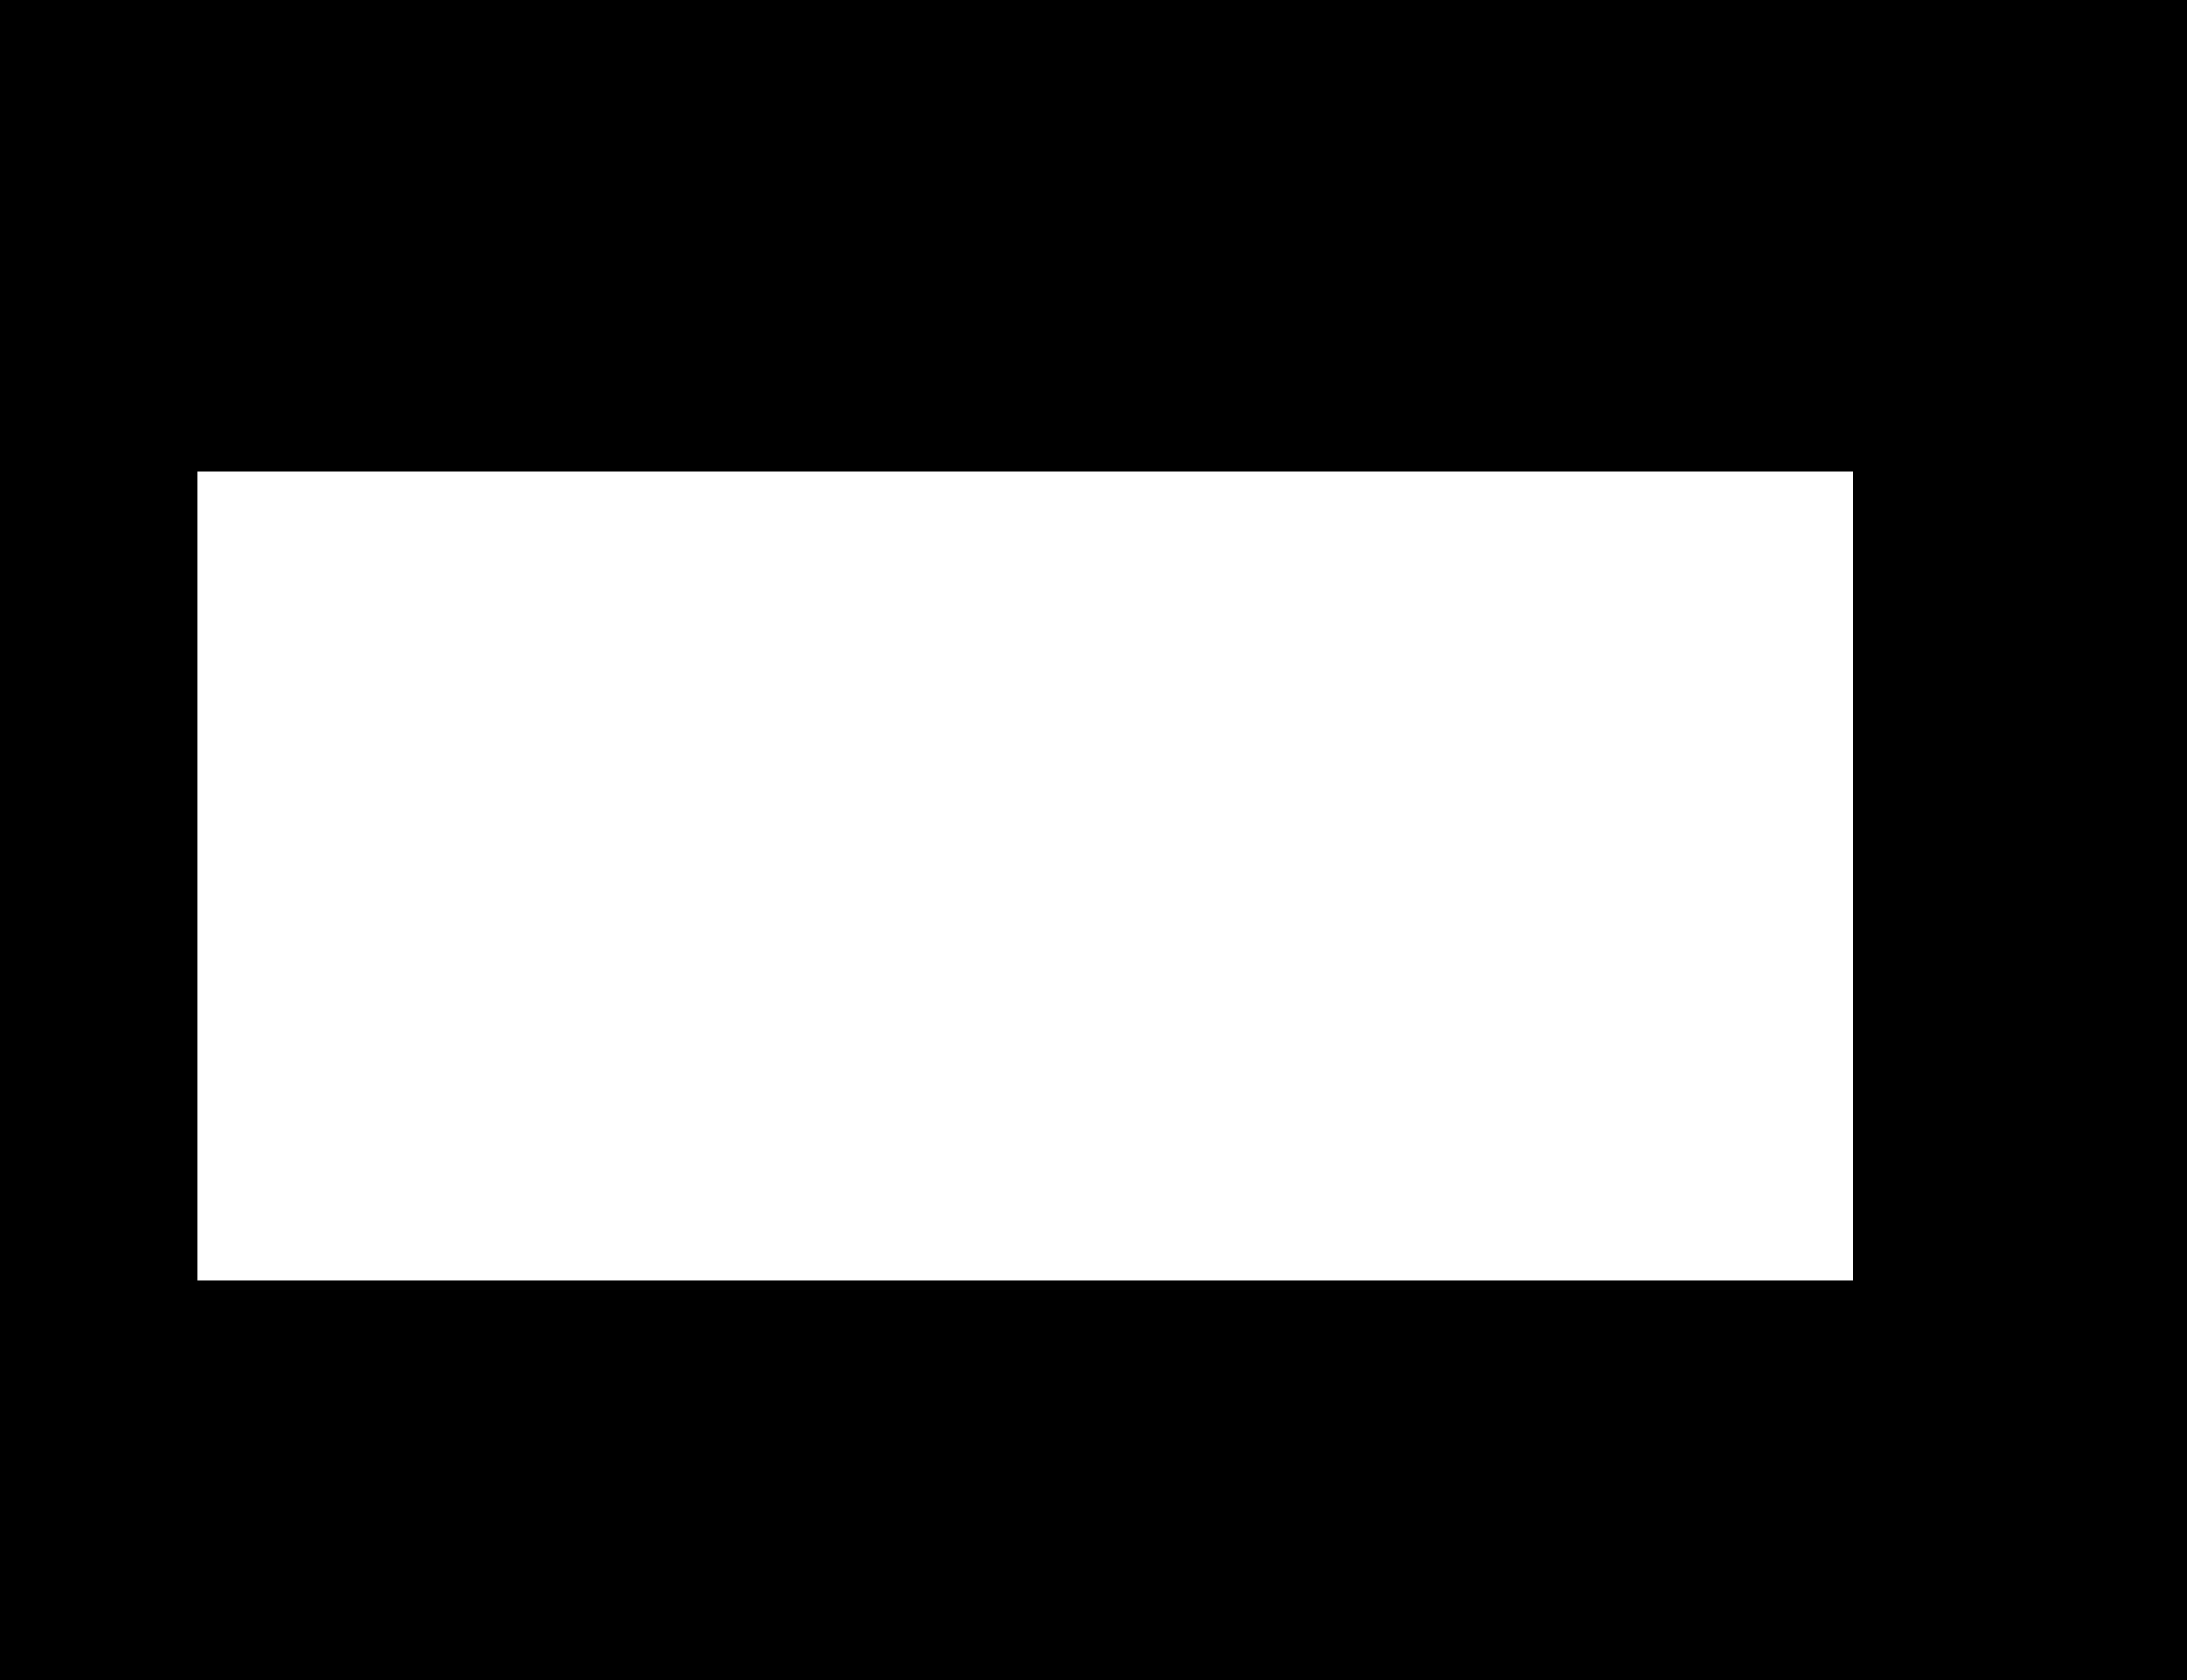table: (198, 471, 1852, 1279)
